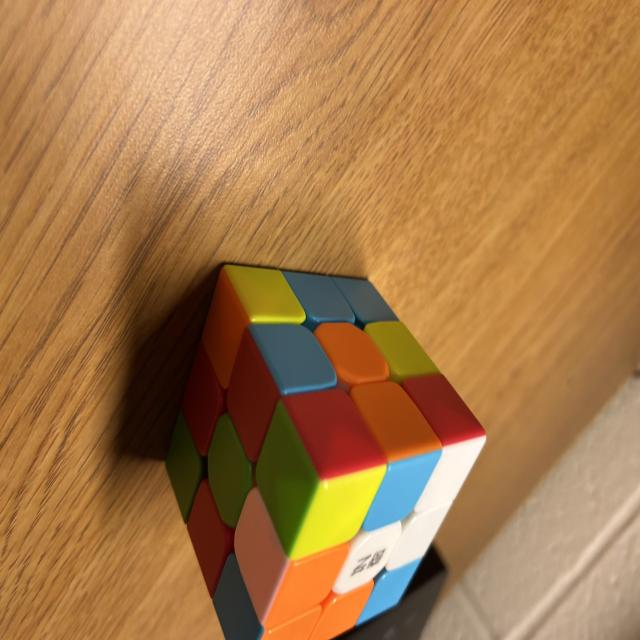Rubiks Cube: (165, 263, 489, 640)
